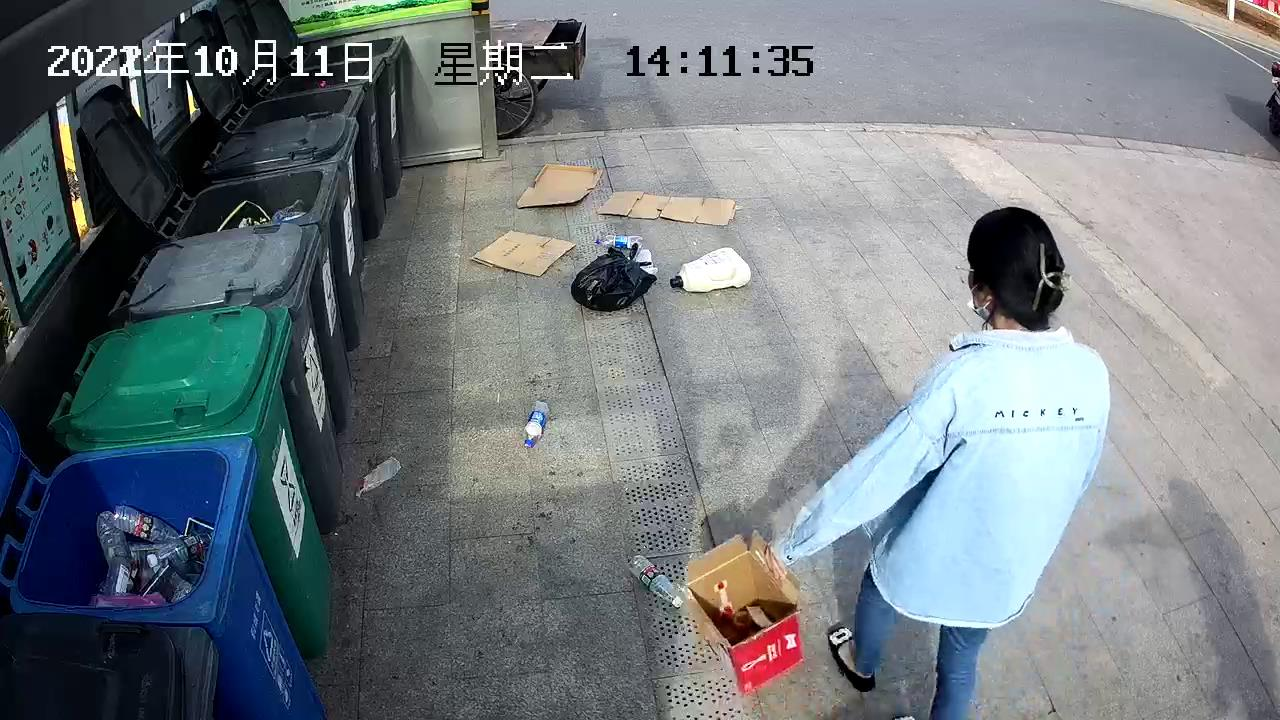garbage-bag: (570, 241, 658, 314)
suliaozhipin: (668, 245, 752, 293), (626, 551, 684, 610), (352, 452, 404, 498), (519, 397, 552, 448), (592, 231, 646, 253)
worker: (771, 204, 1113, 720)
zhizhipin: (678, 529, 805, 696), (595, 188, 739, 229), (468, 226, 577, 277), (514, 162, 604, 208)
